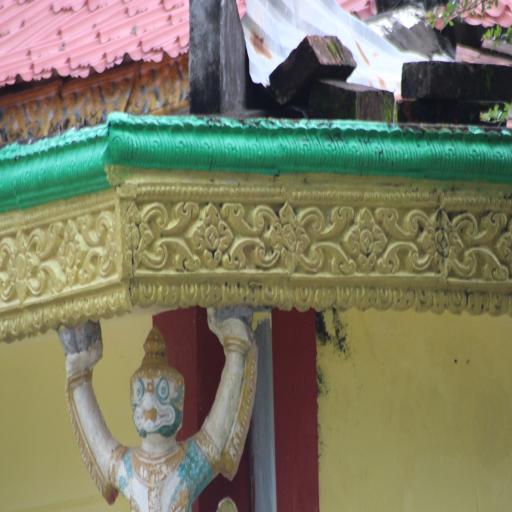hoa: (192, 200, 230, 276), (270, 200, 304, 274), (347, 206, 382, 276), (422, 207, 458, 275), (58, 218, 90, 286), (10, 234, 38, 304)
la: (131, 202, 195, 271), (456, 206, 507, 276), (306, 203, 349, 275), (232, 202, 272, 272), (381, 206, 420, 276), (89, 205, 119, 282), (33, 221, 59, 296)
